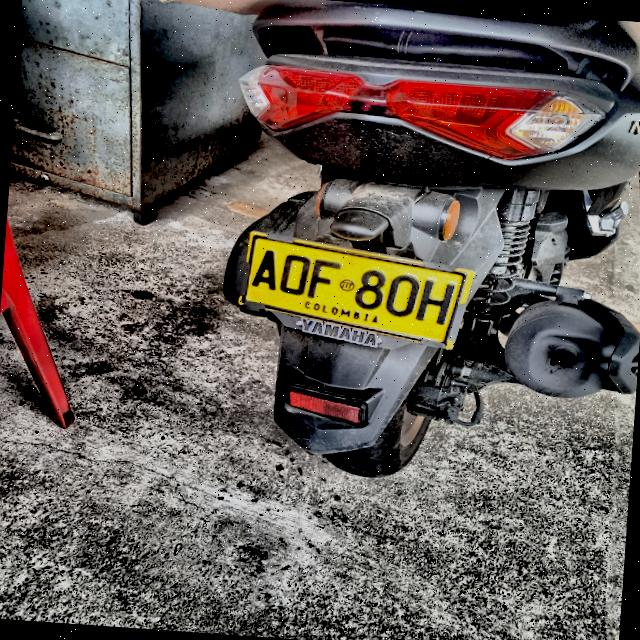0: (381, 270, 423, 321)
8: (349, 265, 391, 313)
A: (249, 245, 284, 292)
F: (304, 256, 344, 303)
H: (412, 276, 458, 327)
O: (277, 251, 314, 298)
